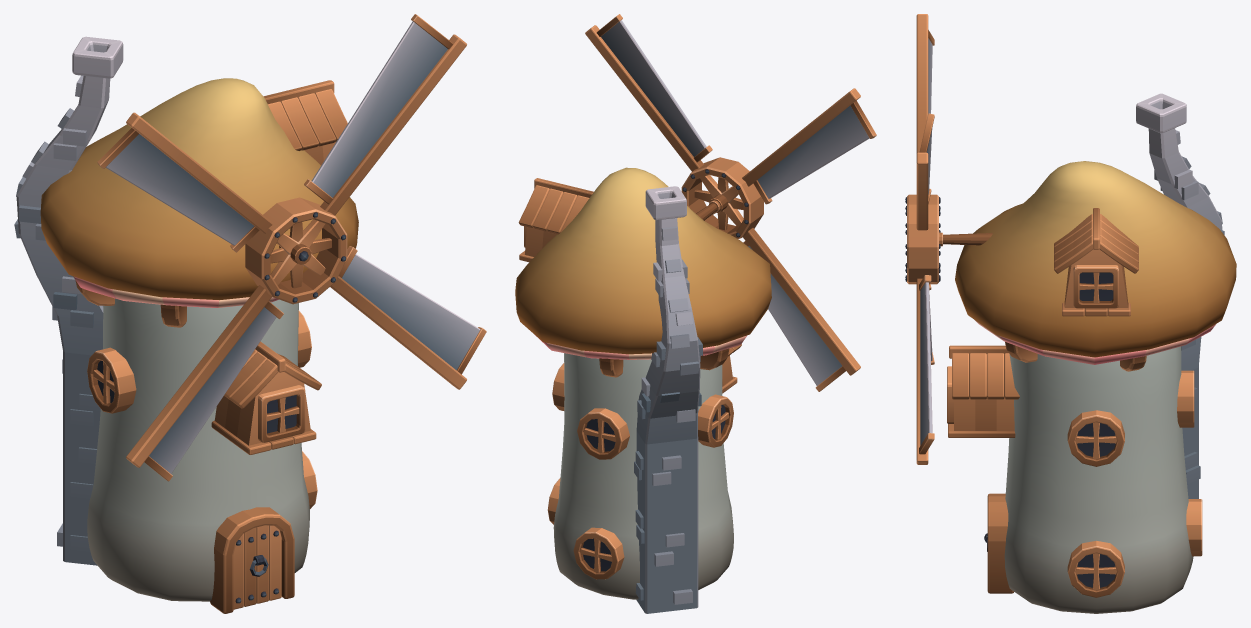
File: mt_house08.fbx
The picture shows the model from 3 angles, left to right: view 1: azimuth 30°, elevation 25°; view 2: azimuth 150°, elevation 25°; view 3: azimuth 270°, elevation 25°; orthographic projection. The views are drawn at different scales.
Visible parts, largest first — view 1: h8, h8b; view 2: h8, h8b; view 3: h8, h8b.
Part boxes in pixels (left/top/right/bottom): h8: left=14, top=36, right=358, bottom=613; h8b: left=97, top=14, right=486, bottom=481; h8: left=515, top=167, right=771, bottom=613; h8b: left=585, top=14, right=876, bottom=391; h8: left=947, top=93, right=1236, bottom=613; h8b: left=905, top=14, right=992, bottom=464.
Bounding box in the file's own units: 907 × 1310 × 757.
